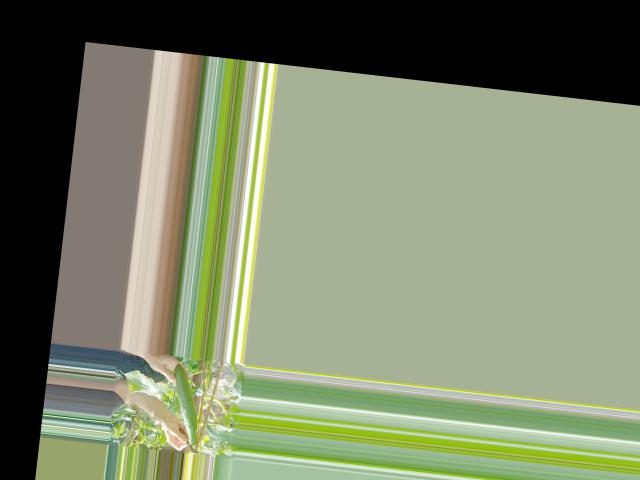cucumber: (165, 363, 204, 444)
